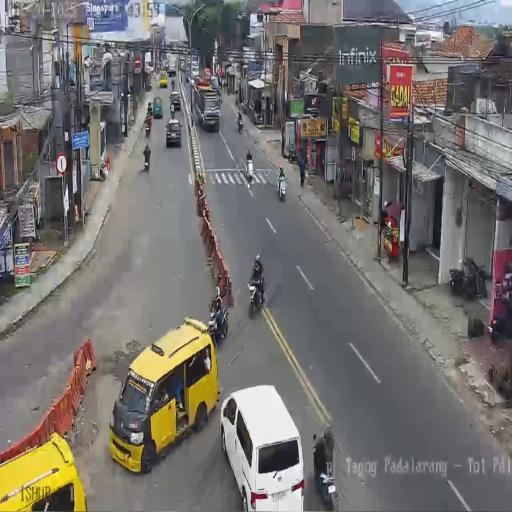car: (110, 321, 219, 472), (218, 384, 302, 510), (166, 118, 181, 147), (152, 96, 163, 119), (170, 90, 180, 112), (167, 56, 177, 75), (159, 68, 168, 88), (210, 75, 219, 93), (191, 62, 199, 81), (203, 67, 211, 83), (184, 60, 190, 76), (180, 59, 186, 72)
motorcycle: (490, 291, 512, 342), (248, 274, 264, 318), (284, 144, 299, 165), (277, 172, 286, 202), (237, 110, 243, 133), (218, 92, 222, 106), (171, 78, 174, 91)
truck: (193, 82, 221, 132)
